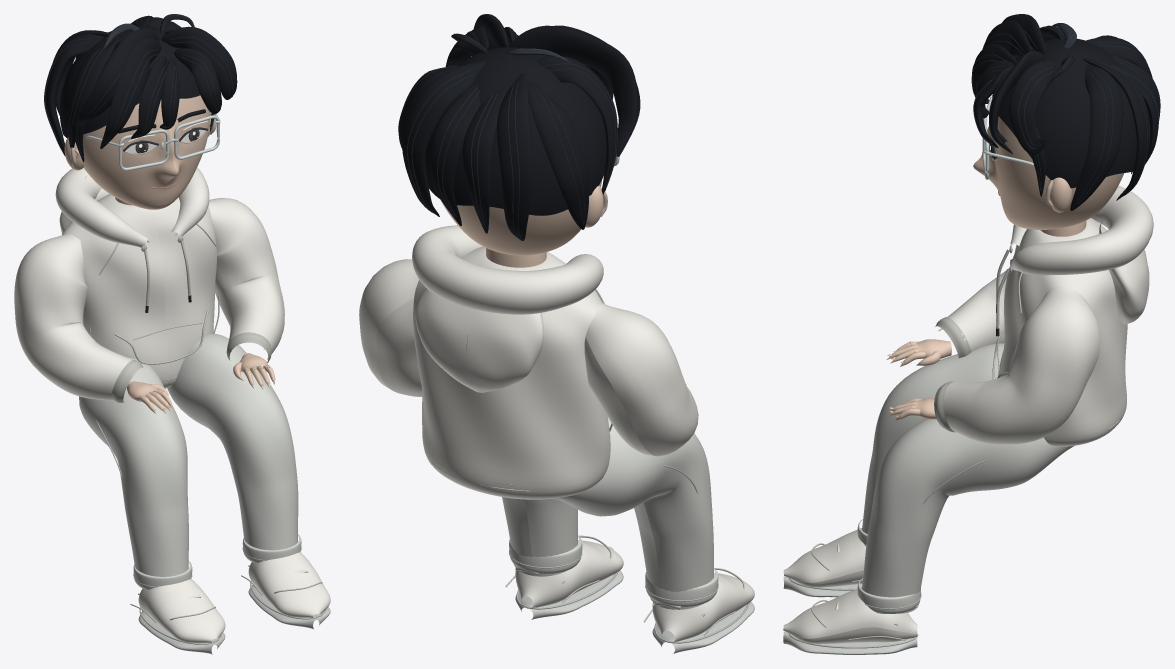
File: chenyu-character.glb
The picture shows the model from 3 angles, left to right: view 1: azimuth 30°, elevation 25°; view 2: azimuth 150°, elevation 25°; view 3: azimuth 270°, elevation 25°; orthographic projection. The views are drawn at different scales.
Visible parts, largest first — view 1: Chenyu — sculpted seated character, object 27, object 28, object 40, object 31, object 49, object 55, object 43, object 34, object 37, object 21, object 58 (+1 smaller); view 2: Chenyu — sculpted seated character, object 27, object 58, object 31, object 55, object 70, object 73, object 61, object 49, object 67, object 46, object 40; view 3: Chenyu — sculpted seated character, object 27, object 67, object 46, object 70, object 40, object 28, object 58, object 34, object 43, object 73, object 31 (+1 smaller).
Boxes of the visible parts, x1,y1,x2,y2 form: Chenyu — sculpted seated character: (14, 95, 330, 654); object 27: (59, 26, 199, 137); object 28: (100, 38, 161, 148); object 40: (160, 26, 237, 99); object 31: (76, 28, 159, 126); object 49: (67, 39, 122, 147); object 55: (44, 34, 103, 155); object 43: (174, 48, 221, 113); object 34: (131, 56, 167, 138); object 37: (160, 58, 179, 129); object 21: (174, 115, 219, 159); object 58: (53, 30, 109, 115); Chenyu — sculpted seated character: (359, 180, 754, 653); object 27: (425, 47, 606, 215); object 58: (497, 72, 533, 240); object 31: (509, 25, 637, 150); object 55: (527, 81, 589, 229); object 70: (402, 61, 485, 216); object 73: (430, 83, 479, 225); object 61: (463, 90, 505, 233); object 49: (536, 56, 617, 195); object 67: (398, 65, 463, 148); object 46: (445, 26, 488, 66); object 40: (471, 14, 508, 55); Chenyu — sculpted seated character: (783, 116, 1153, 654); object 27: (992, 38, 1136, 188); object 67: (1070, 65, 1123, 210); object 46: (1009, 60, 1060, 154); object 70: (1082, 57, 1150, 200); object 40: (989, 50, 1046, 154); object 28: (983, 20, 1032, 57); object 58: (1084, 37, 1151, 77); object 34: (972, 44, 1017, 103); object 43: (974, 65, 1014, 147); object 73: (1107, 64, 1157, 164); object 31: (1002, 14, 1046, 57).
Size of the model in its own units: 1.24 by 2.52 by 1.46.
